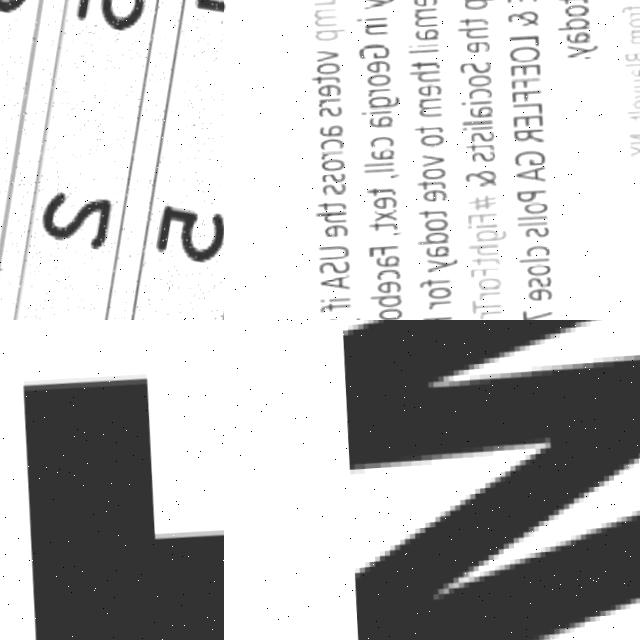1: (185, 0, 224, 43), (615, 0, 640, 6)
2: (25, 188, 112, 265)
5: (137, 202, 224, 289), (62, 0, 149, 49)
7: (513, 313, 544, 320)
A: (508, 171, 539, 190), (312, 277, 343, 295), (559, 37, 587, 53), (311, 126, 338, 142), (462, 109, 489, 125), (363, 150, 390, 165), (367, 258, 395, 272), (408, 33, 436, 47), (362, 118, 388, 133), (417, 249, 443, 263), (624, 73, 640, 84)
B: (360, 296, 393, 313), (618, 58, 640, 69)
C: (515, 250, 546, 265), (461, 92, 488, 106), (368, 271, 393, 285), (363, 139, 389, 152), (313, 140, 338, 153)
D: (407, 234, 442, 251), (551, 22, 586, 39)
E: (505, 119, 539, 136), (504, 68, 537, 85), (310, 85, 337, 101), (519, 292, 546, 308), (360, 62, 386, 78), (415, 192, 441, 208), (461, 44, 487, 60), (315, 226, 342, 241), (368, 284, 395, 299), (365, 199, 392, 214), (411, 87, 437, 102), (501, 0, 534, 10), (407, 0, 434, 12), (625, 106, 640, 117)
F: (359, 248, 394, 263), (506, 94, 537, 109), (458, 217, 492, 230), (310, 303, 343, 316), (460, 270, 493, 283), (504, 84, 537, 97), (411, 281, 443, 292), (616, 12, 640, 19)
G: (352, 45, 387, 64), (506, 154, 541, 173), (466, 232, 501, 249), (360, 98, 395, 113)
H: (450, 30, 485, 47), (402, 74, 437, 89), (307, 213, 340, 228), (460, 247, 492, 262)
I: (354, 112, 389, 120), (454, 105, 488, 111), (352, 19, 384, 25), (455, 130, 487, 136), (459, 227, 491, 233), (311, 300, 342, 306), (403, 47, 435, 52)
L: (503, 39, 536, 56), (505, 106, 538, 123), (508, 220, 543, 228), (506, 226, 543, 233), (509, 263, 545, 269), (356, 171, 389, 177), (357, 165, 389, 171), (455, 124, 487, 130), (403, 53, 435, 58), (619, 117, 640, 122), (619, 71, 640, 75)
M: (315, 320, 640, 640), (412, 101, 437, 123), (308, 9, 333, 30), (409, 12, 434, 33), (623, 36, 640, 51)
N: (360, 25, 385, 40), (621, 140, 640, 153)
O: (503, 52, 537, 69), (309, 63, 336, 79), (413, 137, 440, 153), (461, 78, 488, 94), (313, 161, 339, 176), (417, 221, 441, 237), (419, 289, 443, 305), (361, 77, 386, 92), (415, 170, 440, 185), (516, 206, 541, 221), (518, 268, 543, 283), (559, 10, 584, 24), (469, 281, 492, 296), (369, 310, 394, 320), (622, 24, 640, 36)
P: (308, 29, 343, 46), (458, 1, 493, 18), (509, 194, 541, 209)
R: (507, 134, 540, 151), (419, 304, 443, 314), (313, 153, 338, 162), (312, 102, 336, 111), (363, 92, 385, 101), (470, 296, 492, 305), (622, 19, 640, 26), (470, 315, 493, 320)
S: (452, 64, 486, 81), (311, 262, 344, 278), (314, 184, 339, 200), (516, 232, 543, 244), (464, 136, 488, 148), (312, 110, 337, 121), (519, 283, 544, 294), (315, 174, 339, 185), (465, 158, 489, 168)
T: (1, 347, 224, 640), (462, 302, 494, 319), (358, 189, 391, 202), (460, 260, 492, 273), (306, 76, 337, 89), (457, 147, 490, 158), (553, 1, 586, 12), (409, 183, 440, 194), (409, 213, 440, 224), (310, 203, 340, 214), (407, 129, 438, 139), (454, 22, 485, 32), (361, 225, 391, 235), (404, 65, 434, 75), (622, 121, 640, 128)
U: (310, 247, 343, 263), (309, 0, 331, 8), (624, 86, 640, 95)
V: (415, 157, 440, 173), (310, 50, 335, 65), (625, 95, 640, 106)
X: (364, 212, 392, 227)
Y: (417, 260, 452, 277), (560, 49, 595, 66), (356, 0, 391, 14), (622, 151, 640, 164)
